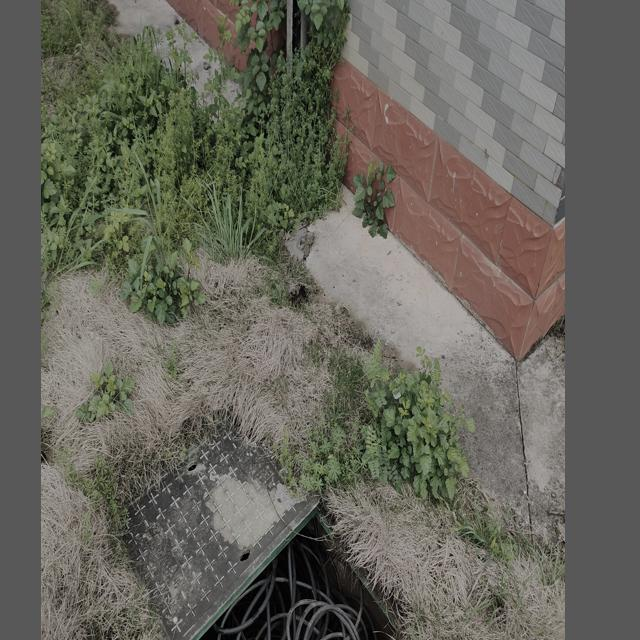lose: (176, 499, 407, 640)
